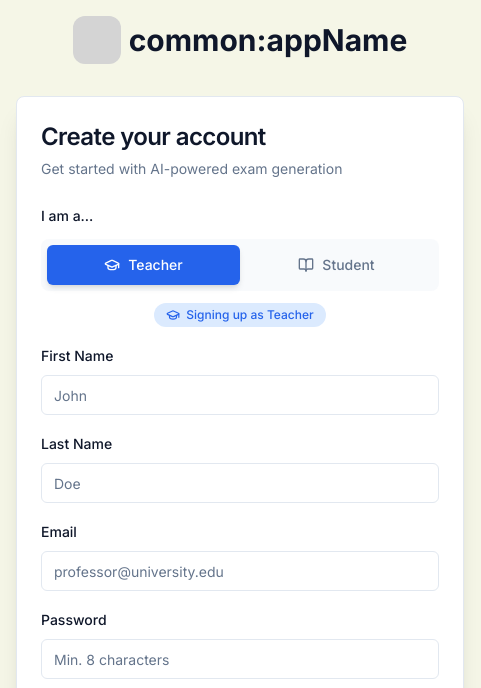
RegisterForm › Role Toggle › should switch back to TEACHER role
The width and height of the screenshot is (481, 688).
What coordinates should you click on to do the following:
click the button "Student"
I would click on:
 (336, 265)
Its box is [240,245,433,285].
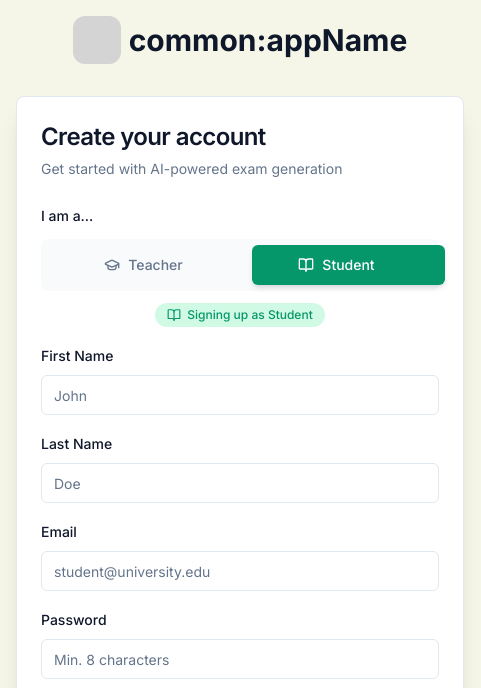
Now the text "Signing up as Student" is shown, box [187,307,313,323]
What coordinates should you click on to do the following:
click the button "Teacher"
I would click on:
 (144, 265)
Its box is [47,245,240,285].
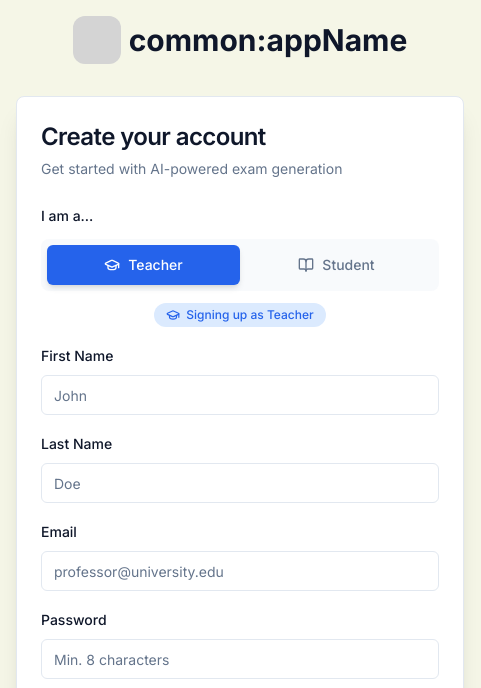
Now the text "Signing up as Teacher" is shown, box [186,307,314,323]
